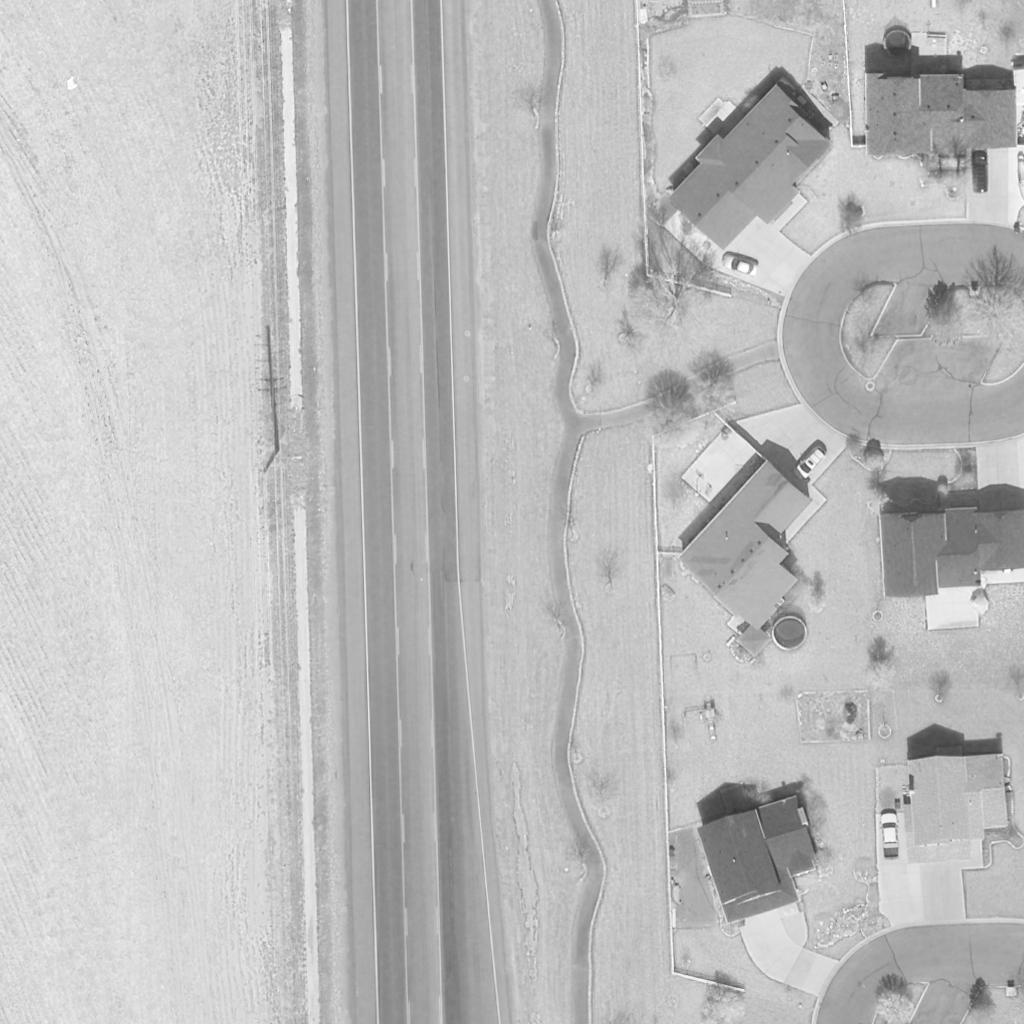vehicle: (791, 444, 829, 482), (879, 811, 901, 863), (970, 151, 990, 195), (723, 254, 757, 276)
